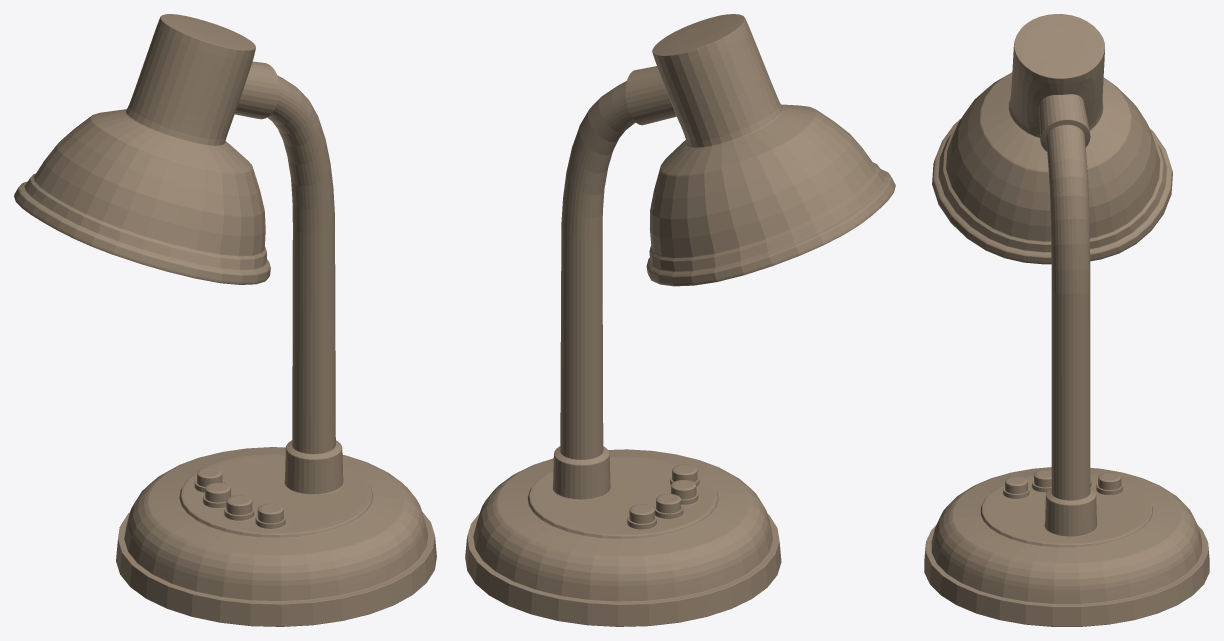
File: Desk_Light.fbx
The picture shows the model from 3 angles, left to right: view 1: azimuth 30°, elevation 25°; view 2: azimuth 150°, elevation 25°; view 3: azimuth 270°, elevation 25°; orthographic projection. The views are drawn at different scales.
Parts seen in each view (by area): view 1: Desk_Light02; view 2: Desk_Light02; view 3: Desk_Light02.
Part boxes in pixels (<box>): Desk_Light02: <box>14,14,436,626</box>; Desk_Light02: <box>465,14,895,626</box>; Desk_Light02: <box>924,14,1209,626</box>.
Bounding box in the file's own units: 32.54 × 45.46 × 23.33.
